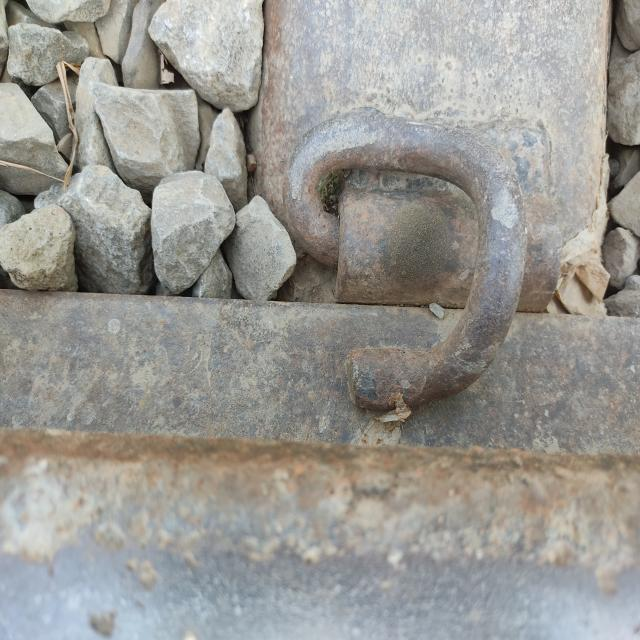No Fault: (289, 75, 526, 420)
